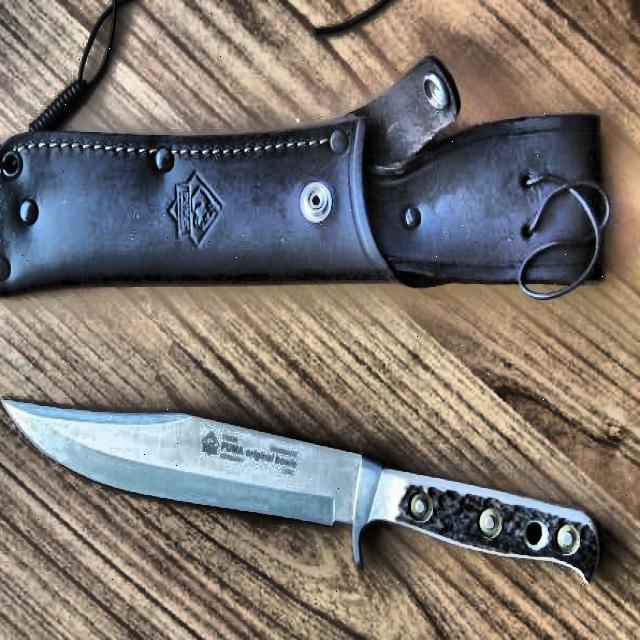knife: (1, 397, 599, 586)
